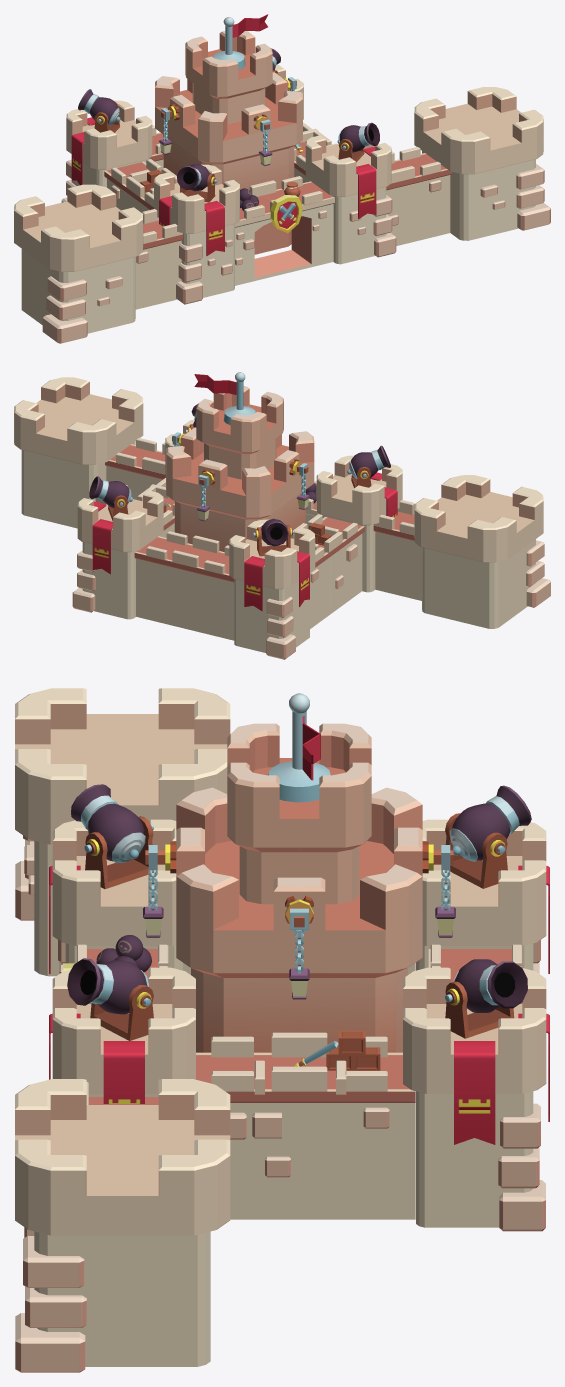
The model's file is Castle2.FBX.
The picture shows the model from 3 angles, top to bottom: view 1: azimuth 30°, elevation 25°; view 2: azimuth 150°, elevation 25°; view 3: azimuth 270°, elevation 25°; orthographic projection. The views are drawn at different scales.
Visible parts, largest first — view 1: Castle; view 2: Castle; view 3: Castle.
Part boxes in pixels (x1,y1,x2,y2): Castle: (14,14,550,343); Castle: (14,372,550,659); Castle: (15,688,549,1372).
Size of the model in its own units: 302 by 127 by 142.
